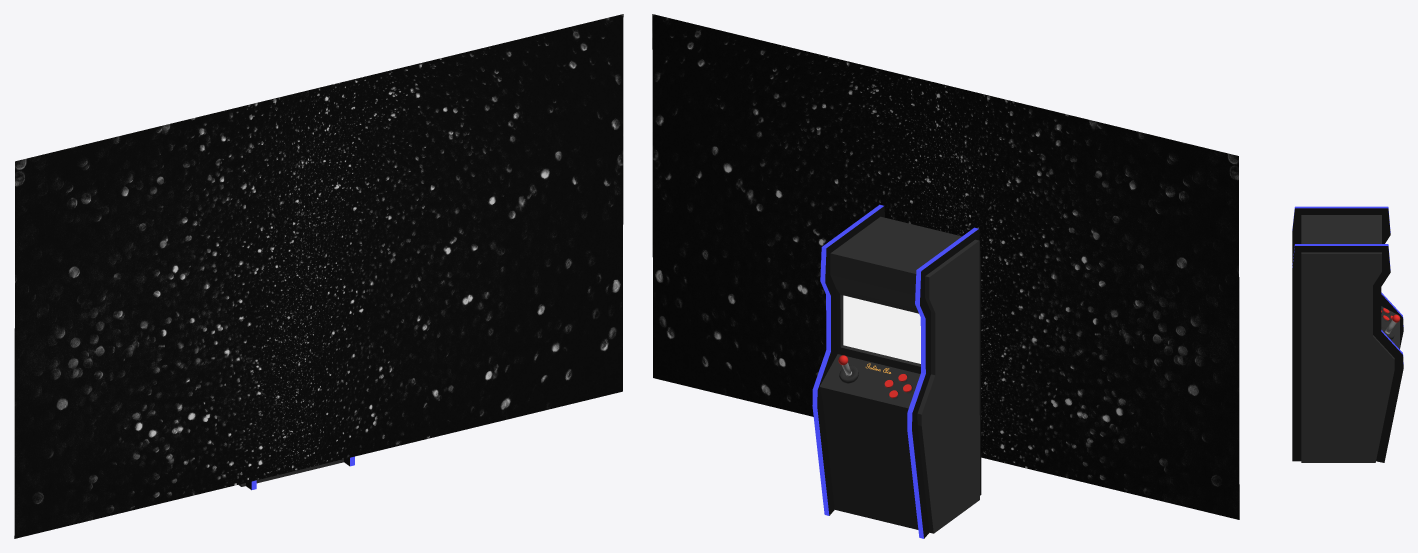
File: arcade.glb
3 views of the same model, side by side, from view 1: azimuth 30°, elevation 25°; view 2: azimuth 150°, elevation 25°; view 3: azimuth 270°, elevation 25° (orthographic). The views are drawn at different scales.
Parts seen in each view (by area): view 1: Fundo; view 2: Fundo, Machine, Screen; view 3: Machine.
Boxes of the visible parts, left/top/right/bottom form: Fundo: left=14, top=14, right=623, bottom=538; Fundo: left=652, top=14, right=1239, bottom=519; Machine: left=812, top=204, right=981, bottom=538; Screen: left=843, top=295, right=920, bottom=363; Machine: left=1292, top=206, right=1403, bottom=462.
Size of the model in its own units: 11.8 by 7.48 by 2.92.
Materials: 8 (1 with a texture image).
